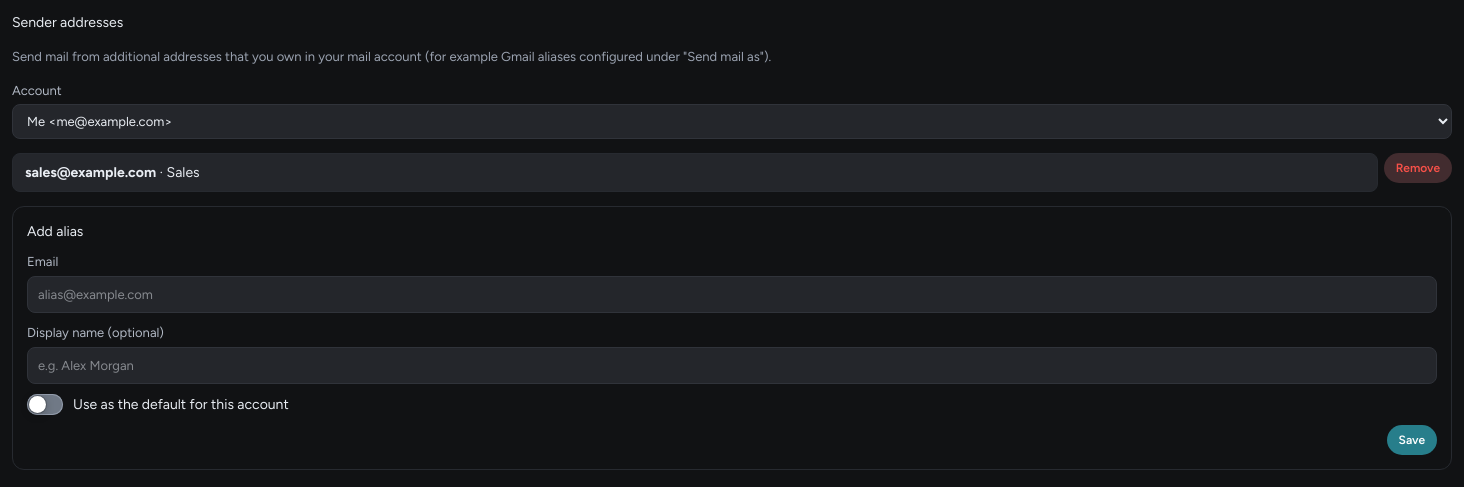
Scenario: AliasEditor deletion › removes the row and offers undo
Click the button with class "delete" at (1418, 168), box [1384, 153, 1452, 183]
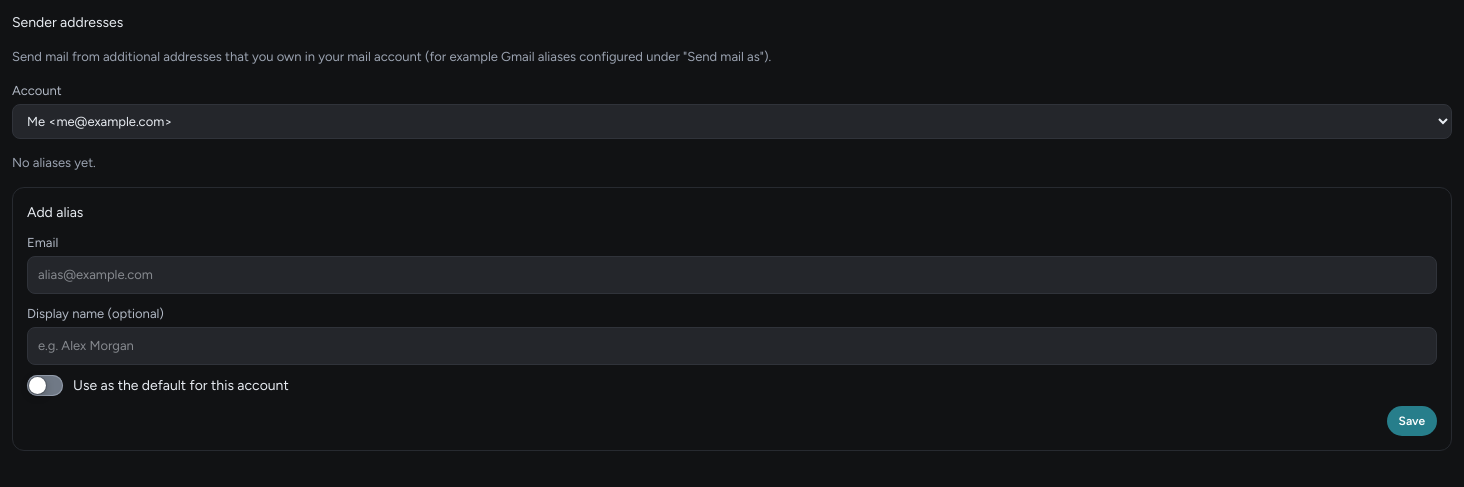
Expected: no buttons with class "delete" are shown
